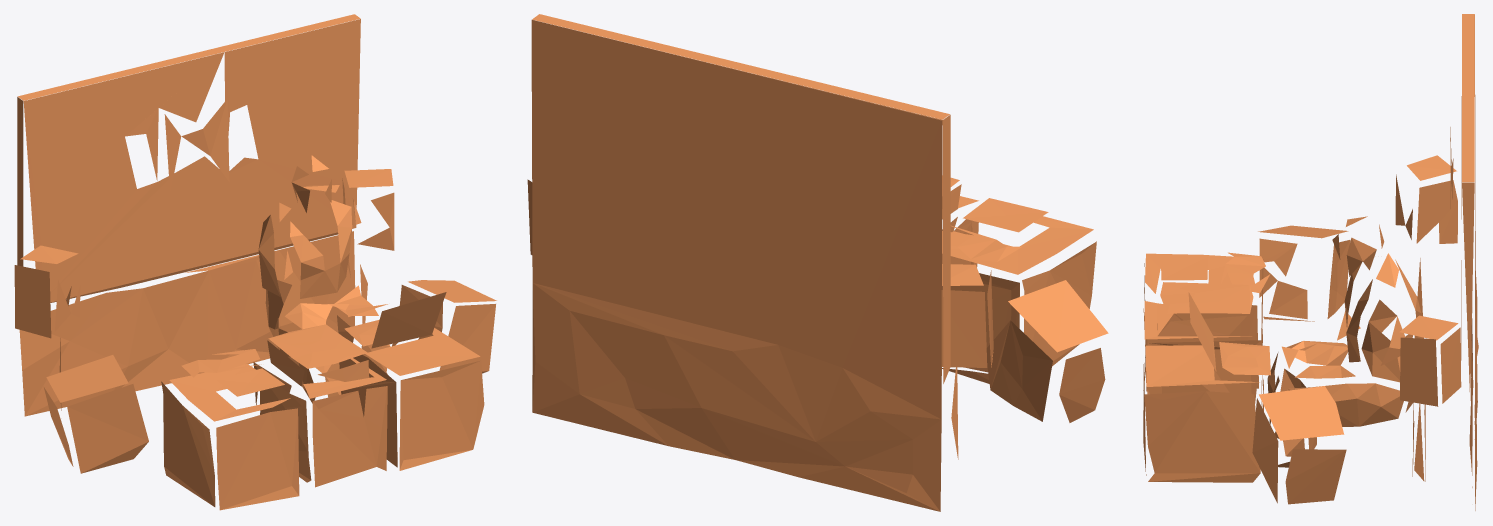
File: dmf-signal-chrome.glb
3 renders of one model, left to right at view 1: azimuth 30°, elevation 25°; view 2: azimuth 150°, elevation 25°; view 3: azimuth 270°, elevation 25°, orthographic. The views are drawn at different scales.
Parts seen in each view (by area): view 1: world; view 2: world; view 3: world.
Part boxes in pixels (x1,y1,x2,y2): world: (14, 14, 496, 510); world: (527, 14, 1108, 511); world: (1143, 14, 1478, 510).
Bounding box in the file's own units: 1.86 × 1.33 × 1.23.
